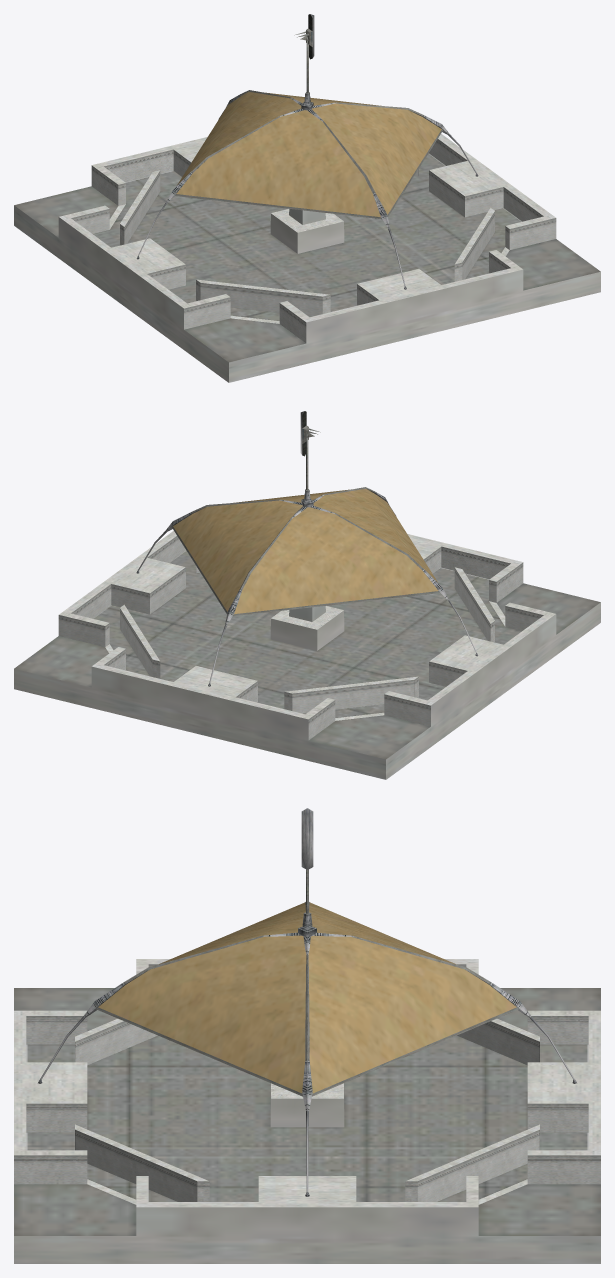
File: mun_corl_bank_s01_l2.fbx
3 views of the same model, one above another, from view 1: azimuth 30°, elevation 25°; view 2: azimuth 150°, elevation 25°; view 3: azimuth 270°, elevation 25° (orthographic). The views are drawn at different scales.
Parts seen in each view (by area): view 1: mesh_node; view 2: mesh_node; view 3: mesh_node.
Part boxes in pixels (<box>): mesh_node: <box>14,14,600,382</box>; mesh_node: <box>14,411,600,779</box>; mesh_node: <box>14,808,600,1263</box>.
Bounding box in the file's own units: 60 × 37.63 × 60.
Materials: 3 (3 with a texture image).
